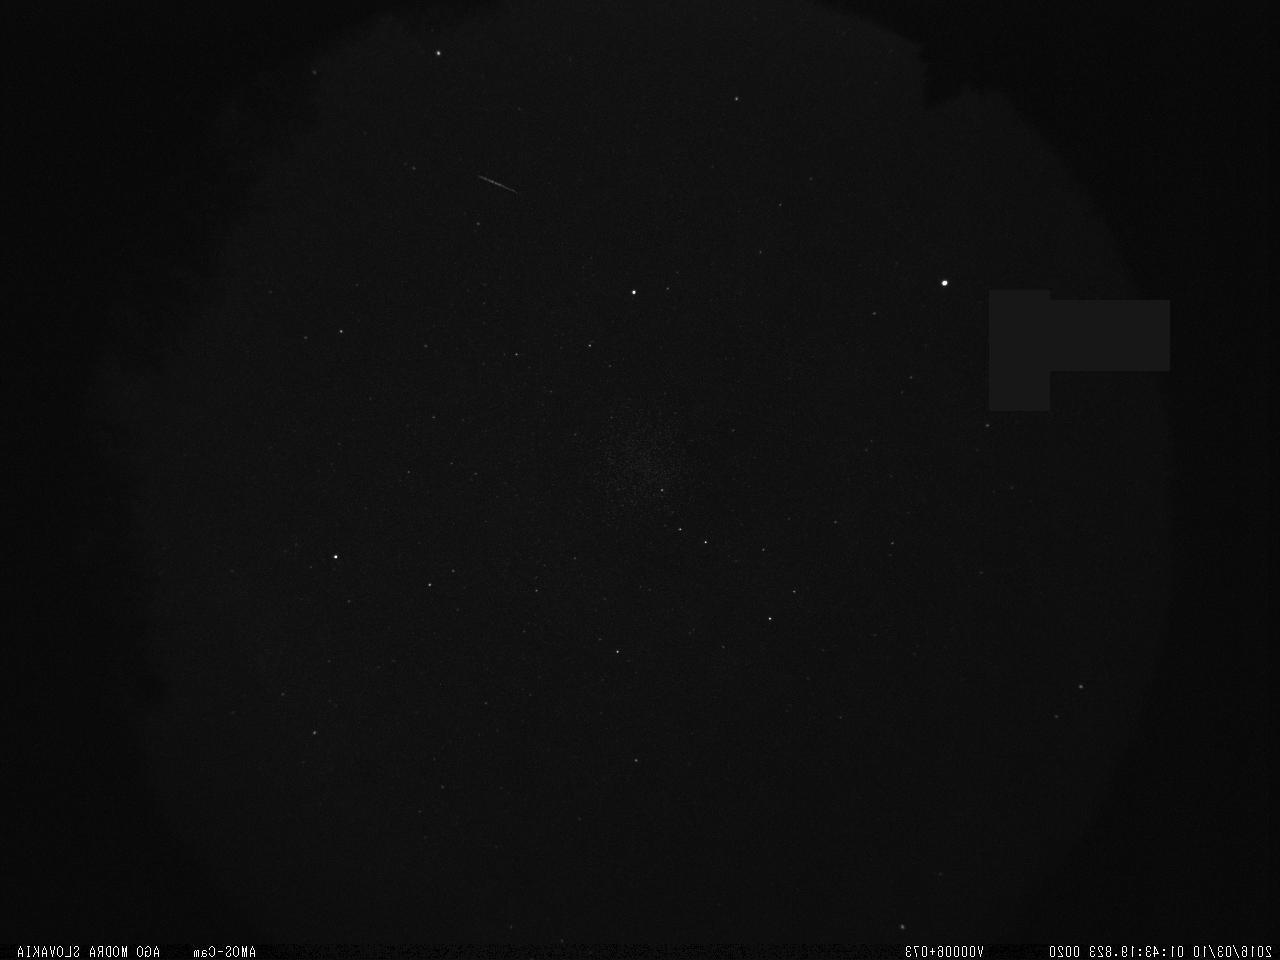meteor: (468, 167, 528, 203)
